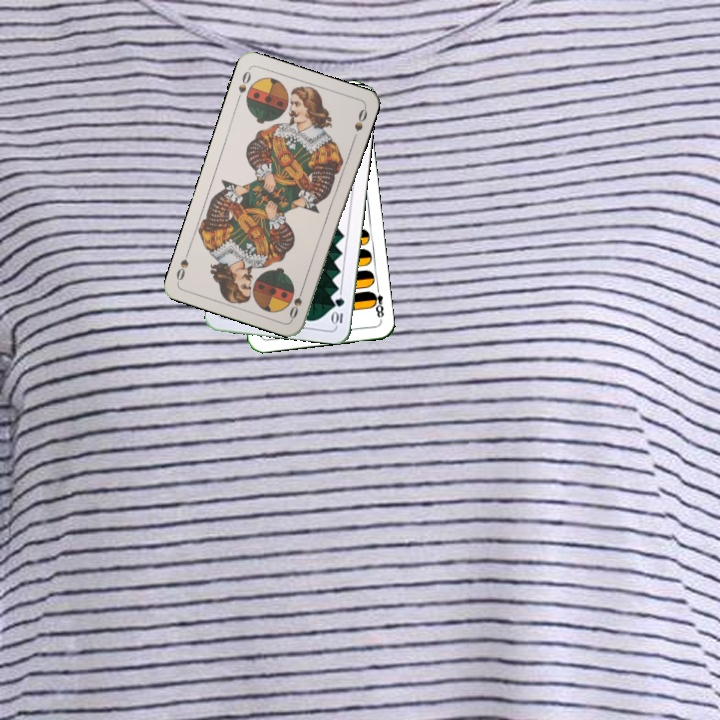E8: (367, 282, 386, 320)
G10: (329, 293, 347, 328)
SO: (285, 282, 307, 321), (233, 66, 254, 105)
